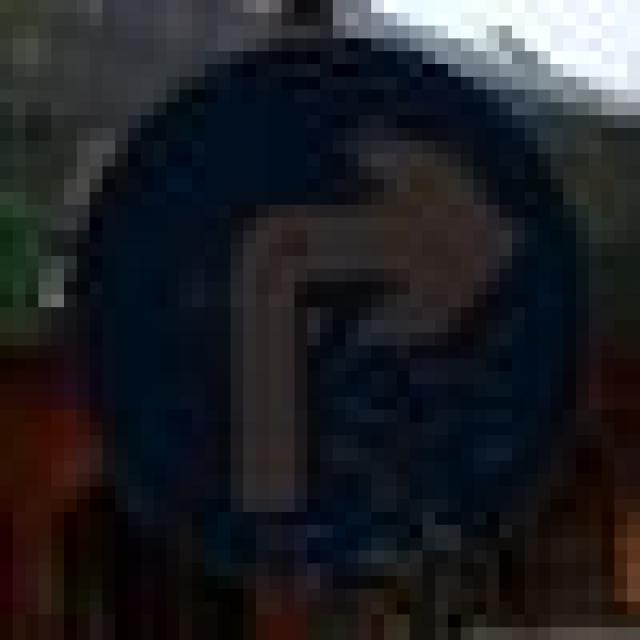TURN_RIGHT: (64, 26, 576, 588)
